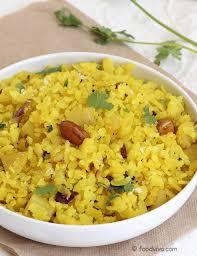poha: (0, 58, 197, 222)
